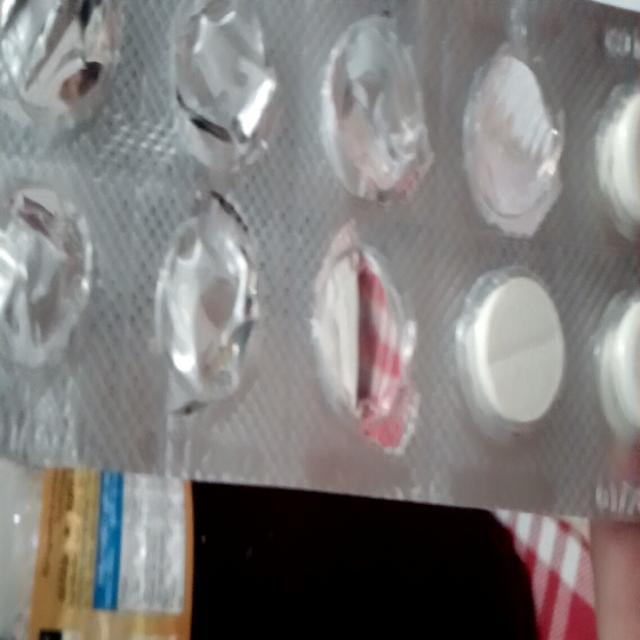Empty: (304, 230, 424, 460), (146, 204, 272, 412), (316, 12, 437, 212), (455, 30, 566, 240), (160, 0, 289, 170), (0, 178, 105, 384), (0, 0, 134, 152)
Pill: (467, 258, 563, 444), (593, 64, 640, 252), (603, 272, 640, 460)
